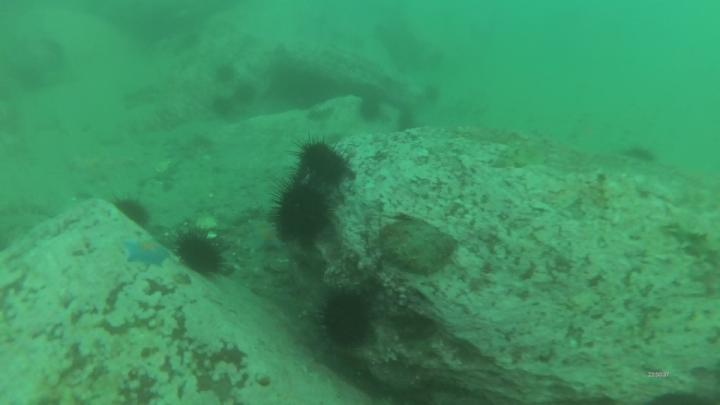echinus: (266, 177, 340, 244), (285, 132, 355, 187), (319, 285, 372, 352), (171, 227, 231, 278), (109, 192, 154, 229), (616, 142, 660, 166), (357, 92, 385, 124), (232, 79, 260, 107), (210, 92, 238, 119), (213, 61, 240, 87), (422, 81, 443, 105), (397, 110, 418, 134)
holothurian: (662, 213, 720, 275), (490, 132, 556, 172), (303, 101, 339, 124)
starfish: (121, 237, 172, 270), (247, 219, 286, 257)
